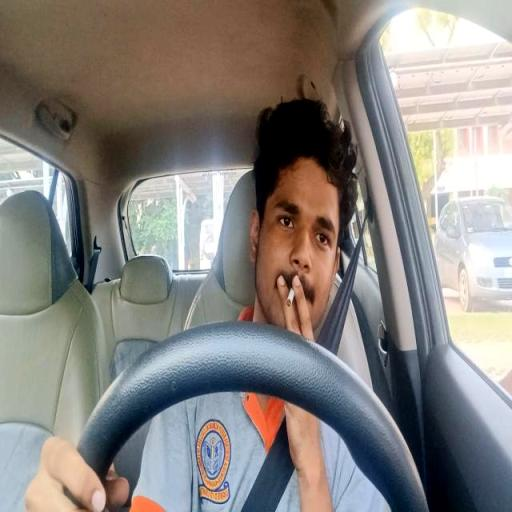Smoking: (29, 93, 400, 512)
